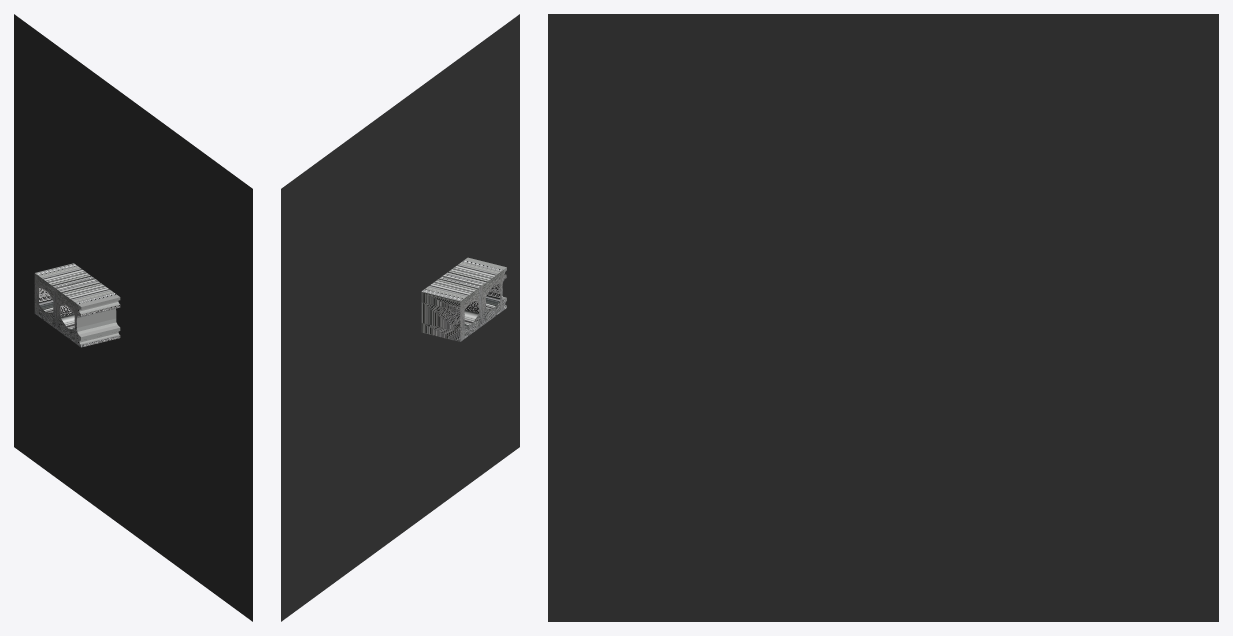
3 renders of one model, left to right at view 1: azimuth 30°, elevation 25°; view 2: azimuth 150°, elevation 25°; view 3: azimuth 270°, elevation 25°, orthographic. The views are drawn at different scales.
Parts seen in each view (by area): view 1: Plane.001, Plane; view 2: Plane.001, Plane; view 3: Plane.001.
Boxes of the visible parts, x1,y1,x2,y2 form: Plane.001: (14,14,252,621); Plane: (34,263,120,347); Plane.001: (281,14,519,621); Plane: (421,257,506,341); Plane.001: (548,14,1218,621).
Size of the model in its own units: 0.3837 by 2 by 2.
Materials: 2 (1 with a texture image).
